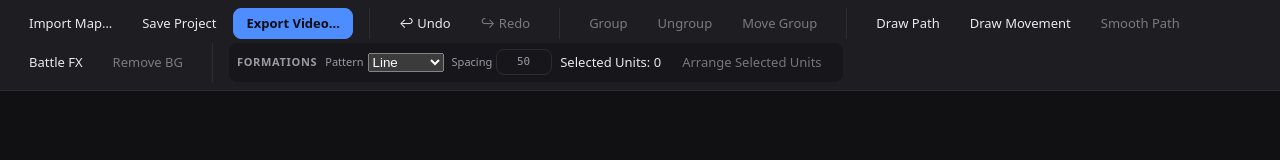
Test: CanvasActionBar (relocated Toolbar actions) › battle FX (collision-triggered bursts) › materializes bursts for an opposing pair within range, one undo step
Step 1. Click the button with test id "battle-fx-btn" → (56, 62), box 16,47 -> 96,78
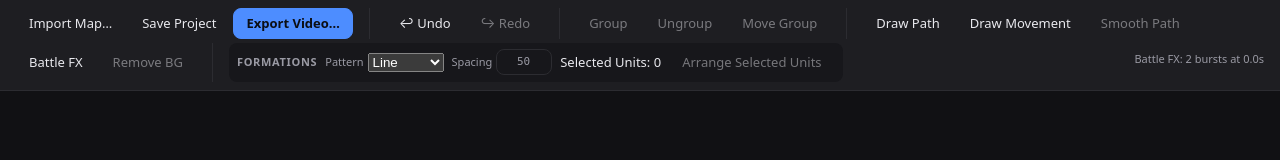
Check: the text with test id "toolbar-status" shows "Battle FX: 2 bursts at", box 1134,51 -> 1264,66
